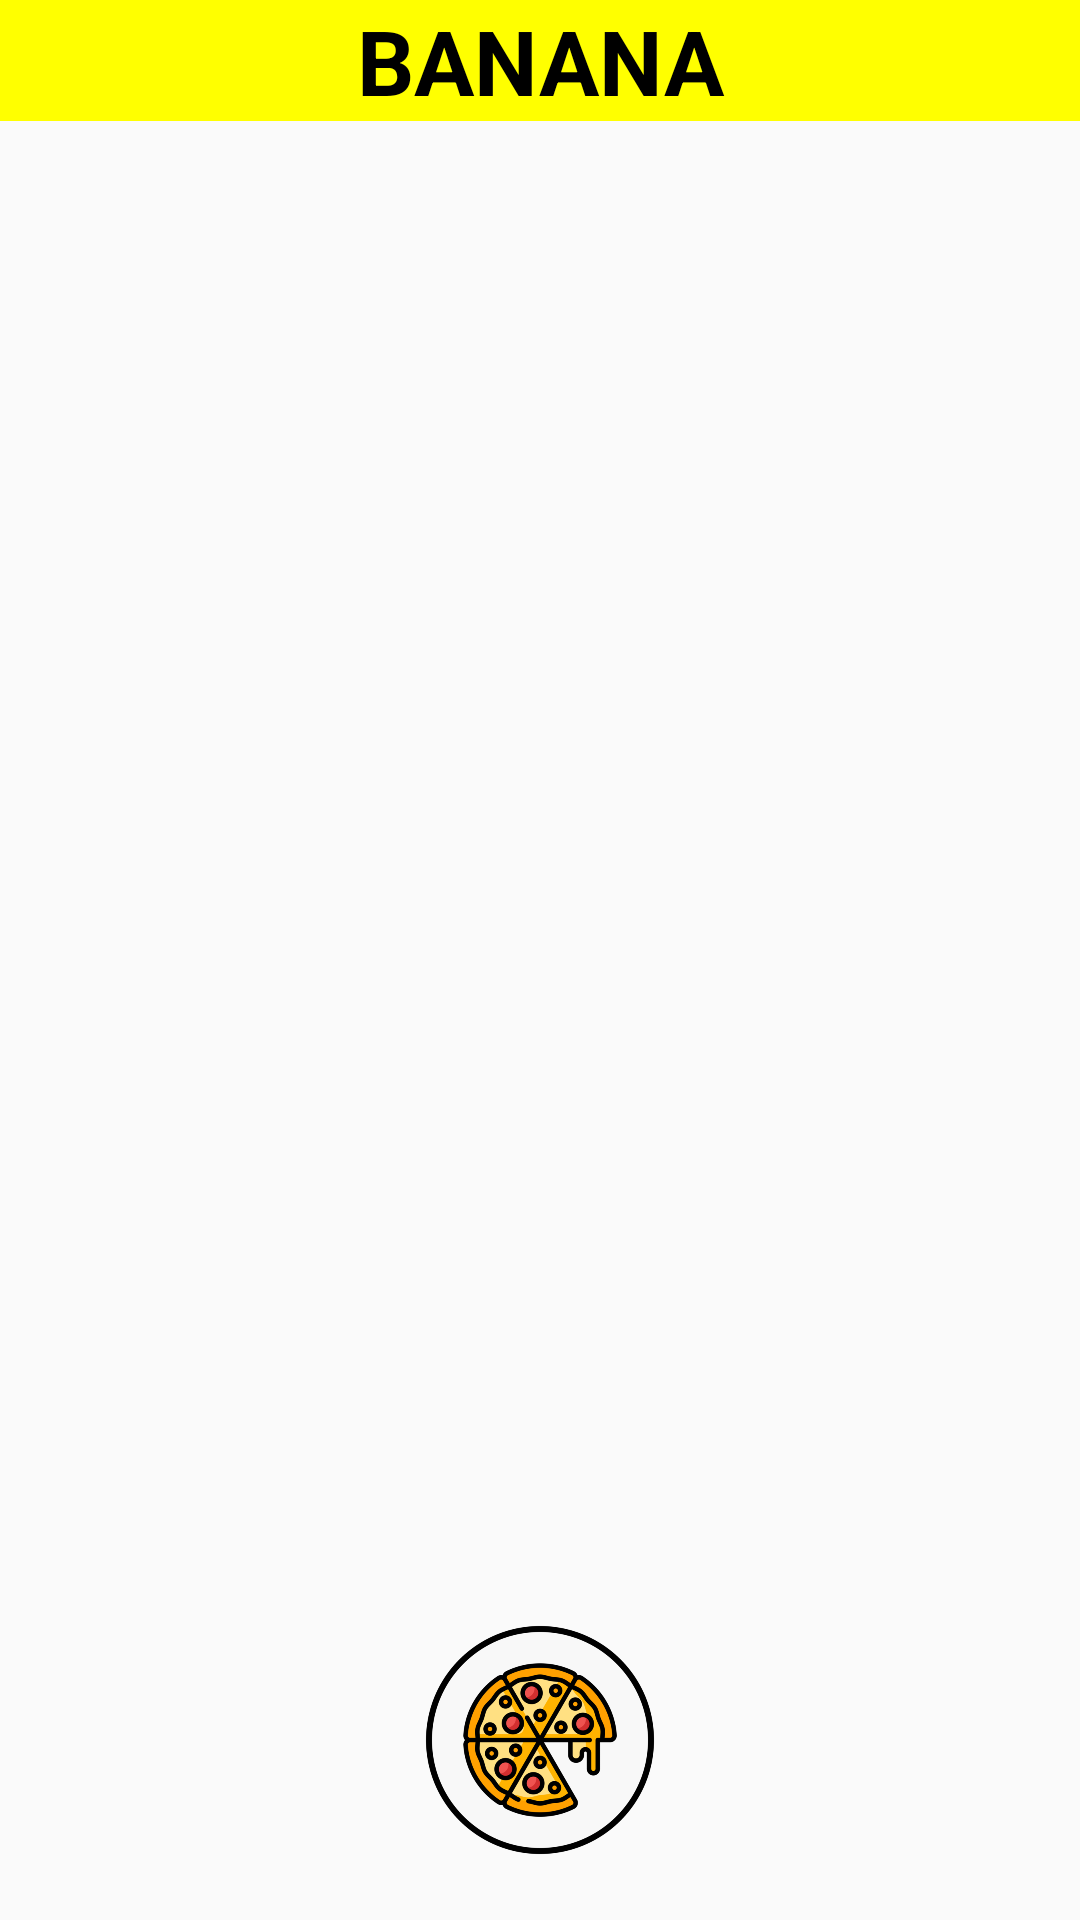

Locate icon controls on the screen. Image size 1080x1920, boxes as (x1, y1, x2, y2).
pizza: (426, 1626, 654, 1854)
